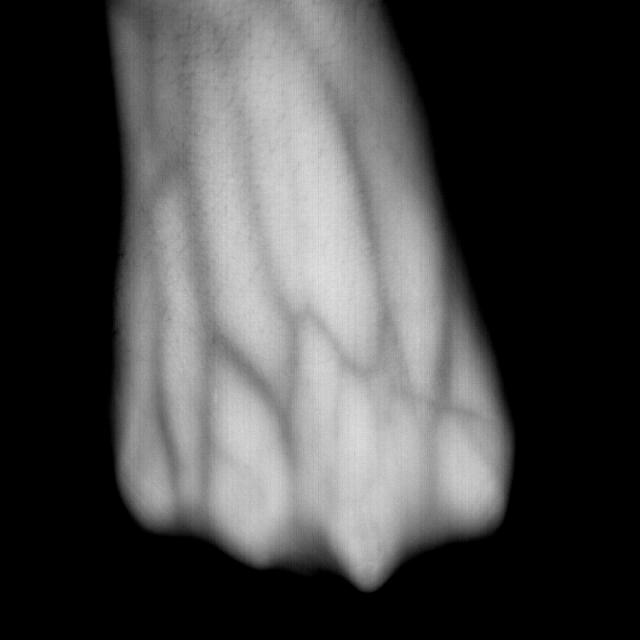Vein: (146, 55, 302, 455), (321, 76, 454, 411)
